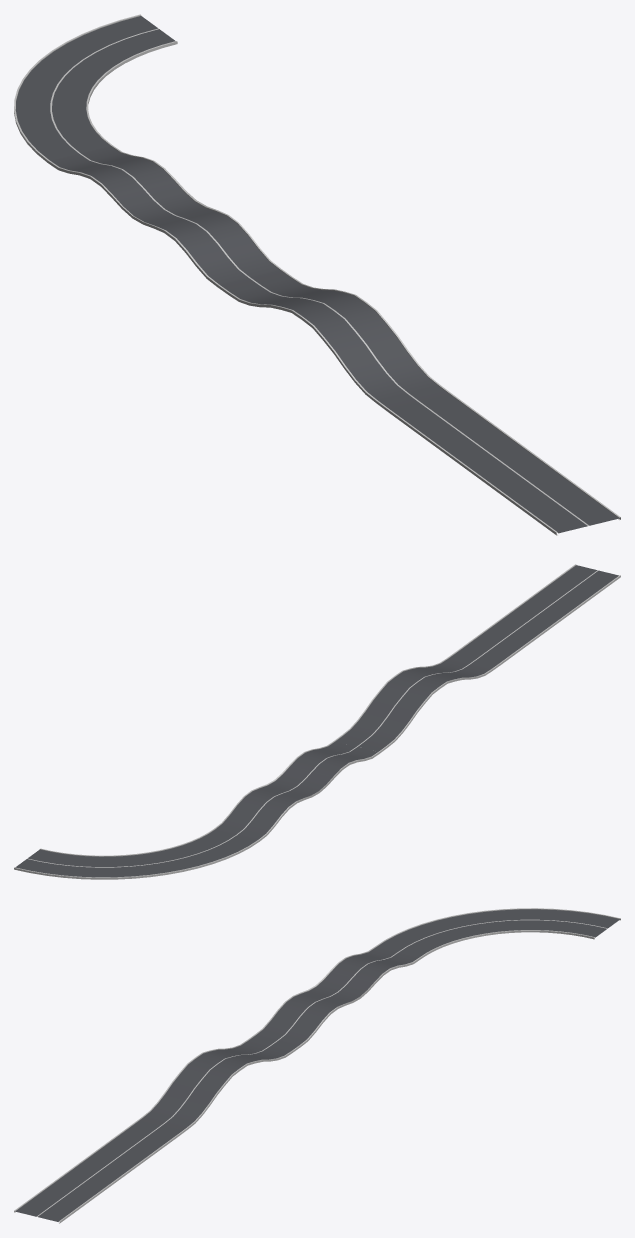
Rendered from Path_geo.fbx.
3 renders of one model, top to bottom at view 1: azimuth 30°, elevation 25°; view 2: azimuth 150°, elevation 25°; view 3: azimuth 330°, elevation 25°, orthographic. The views are drawn at different scales.
Parts seen in each view (by area): view 1: Flat1_Road, Hill1_Road, Wavy1_Road, Turn1_Road; view 2: Turn1_Road, Hill1_Road, Wavy1_Road, Flat1_Road; view 3: Turn1_Road, Hill1_Road, Flat1_Road, Wavy1_Road.
Boxes of the visible parts, left/top/right/bottom form: Flat1_Road: left=387, top=393, right=620, bottom=535; Hill1_Road: left=217, top=269, right=450, bottom=410; Wavy1_Road: left=47, top=145, right=280, bottom=286; Turn1_Road: left=14, top=14, right=177, bottom=162; Turn1_Road: left=14, top=829, right=259, bottom=879; Hill1_Road: left=335, top=652, right=500, bottom=753; Wavy1_Road: left=214, top=740, right=379, bottom=841; Flat1_Road: left=455, top=564, right=620, bottom=664; Turn1_Road: left=376, top=908, right=620, bottom=958; Hill1_Road: left=135, top=1034, right=300, bottom=1135; Flat1_Road: left=14, top=1122, right=179, bottom=1223; Wavy1_Road: left=255, top=946, right=420, bottom=1046.
Size of the model in its own units: 285 by 39.34 by 1430.
1 material, 1 textured.
